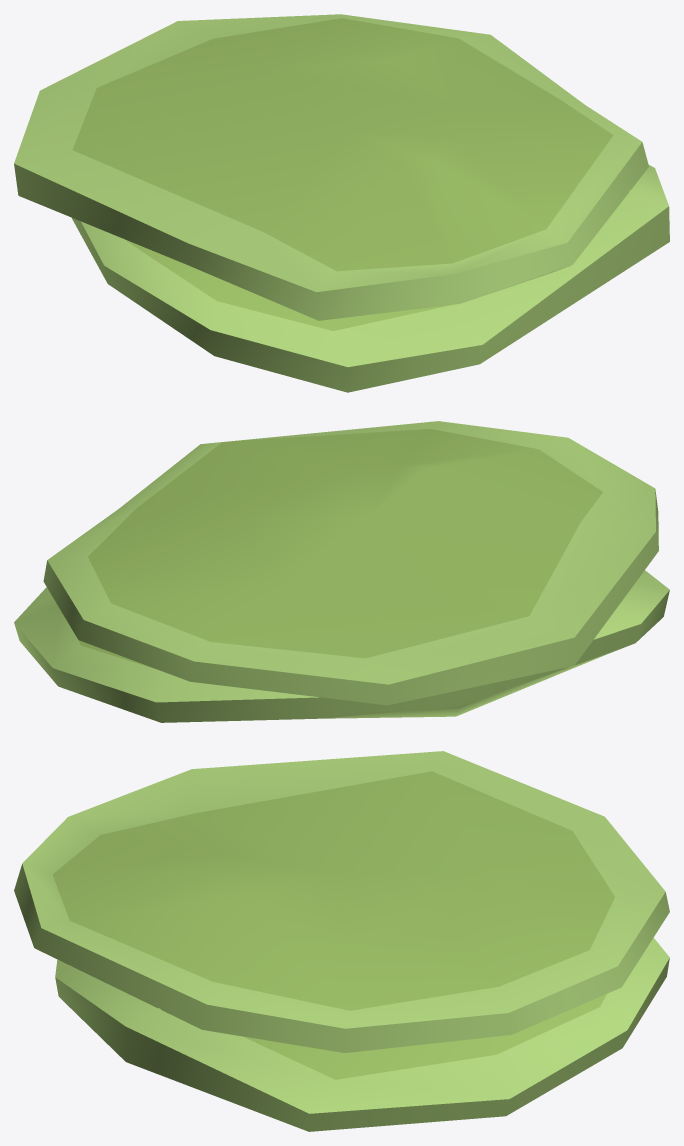
File: SM_Prop_Food_Lettuce_Leaves.fbx
3 renders of one model, top to bottom at view 1: azimuth 30°, elevation 25°; view 2: azimuth 150°, elevation 25°; view 3: azimuth 270°, elevation 25°, orthographic. The views are drawn at different scales.
Parts seen in each view (by area): view 1: SM_Prop_Food_Lettuce_Leaves; view 2: SM_Prop_Food_Lettuce_Leaves; view 3: SM_Prop_Food_Lettuce_Leaves.
Boxes of the visible parts, box(x1,y1,x2,y2) form: SM_Prop_Food_Lettuce_Leaves: box(14, 14, 669, 392); SM_Prop_Food_Lettuce_Leaves: box(14, 421, 669, 722); SM_Prop_Food_Lettuce_Leaves: box(14, 751, 669, 1131).
Bounding box in the file's own units: 22.12 × 5.42 × 22.57.
